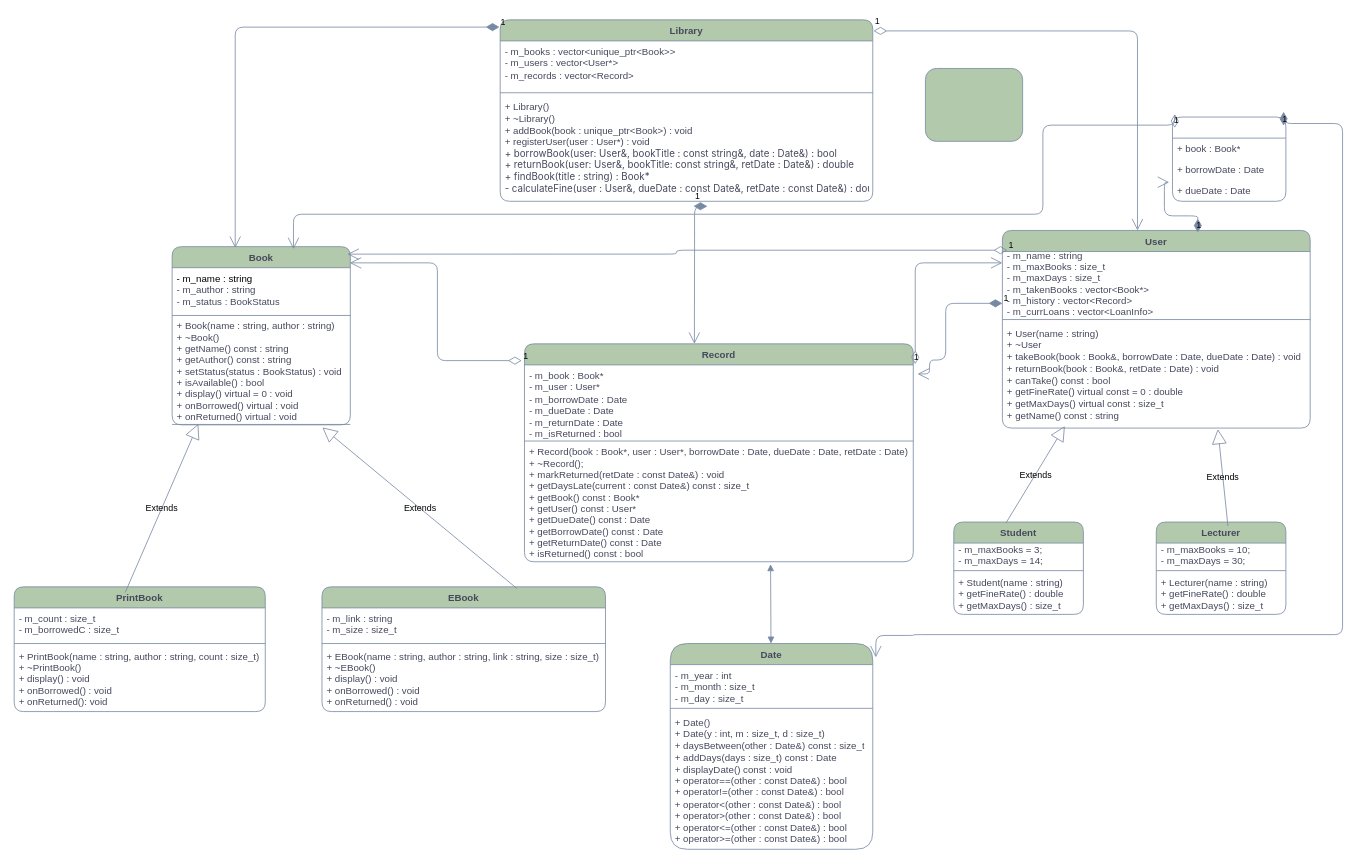
This 1371x866 diagram has some shape labels left out. Each missing label, with the box of its shape:
BookStatus AVAILABLE BORROWED RESERVED: (925, 68, 1023, 141)
LoanInfo: (1172, 116, 1286, 201)
